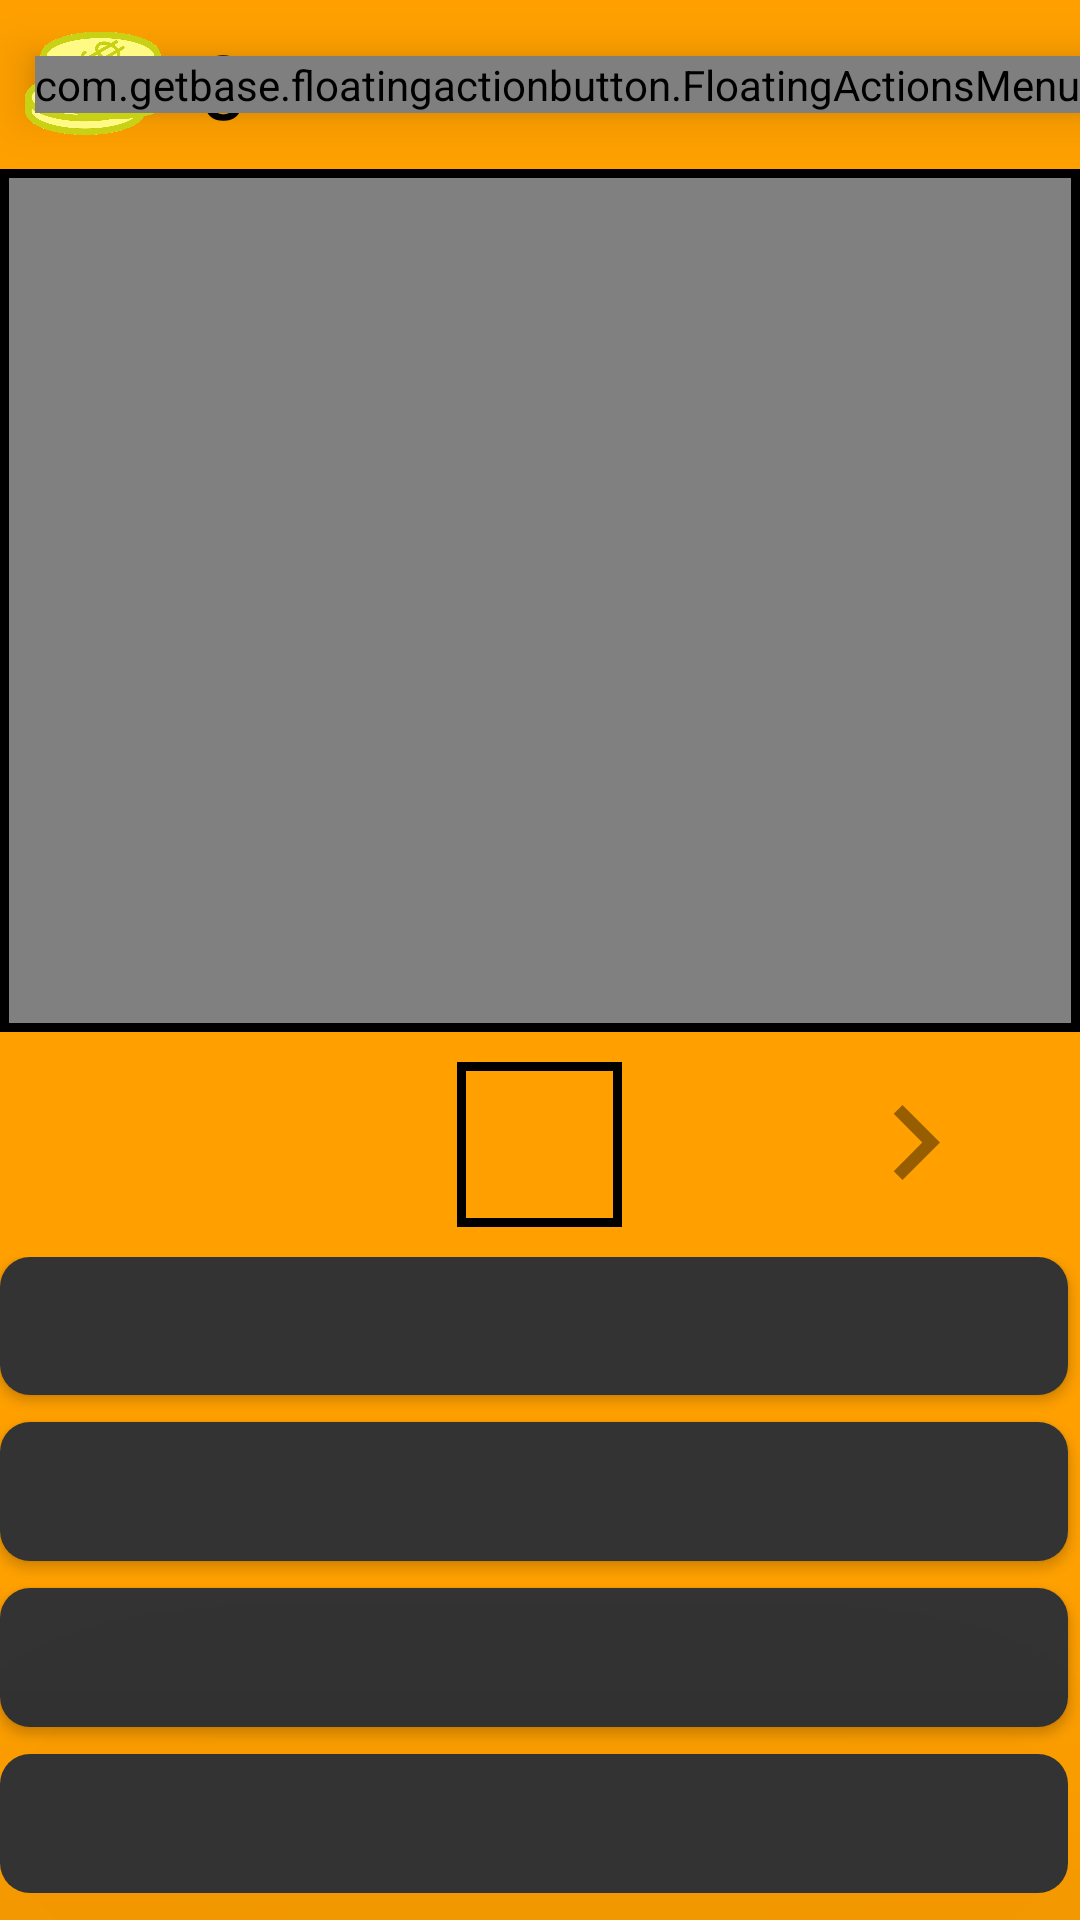

Where icons sit on this 1080 × 1920 app screen, as [x1, y1, x2, y2]:
arrow right: [894, 1105, 940, 1180]
